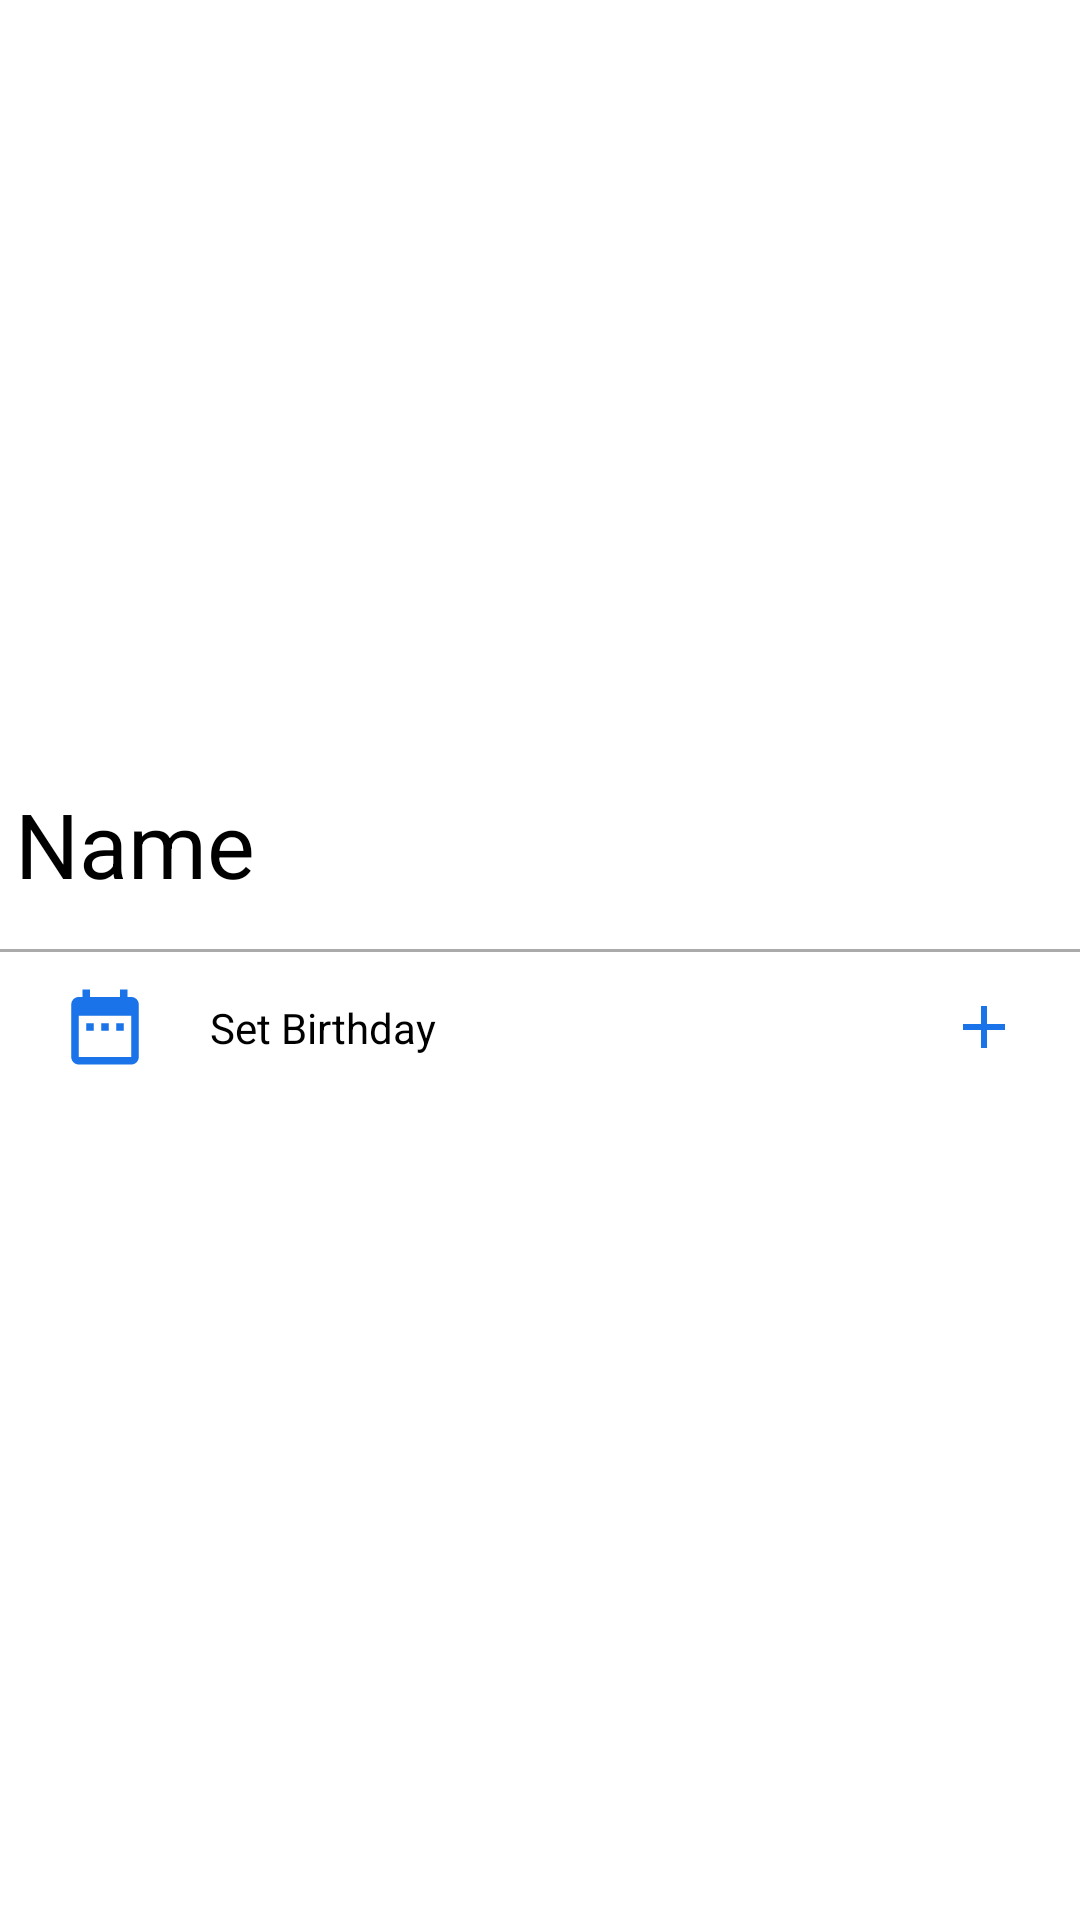

Named icons in this screenshot (1080×1920) and their bounding boxes, (x1, y1, x2, y2):
add: (963, 1006, 1005, 1048)
date: (71, 989, 139, 1065)
